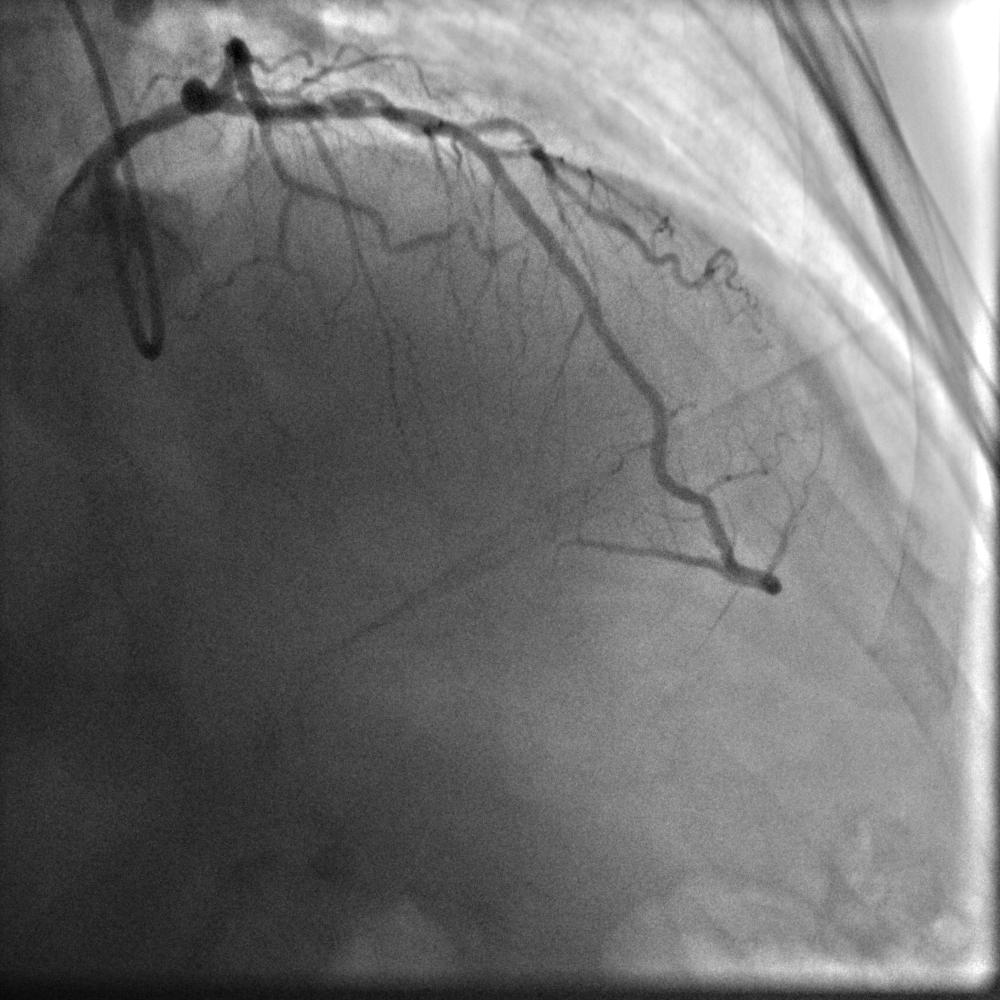Stenosis: (318, 98, 338, 120)
